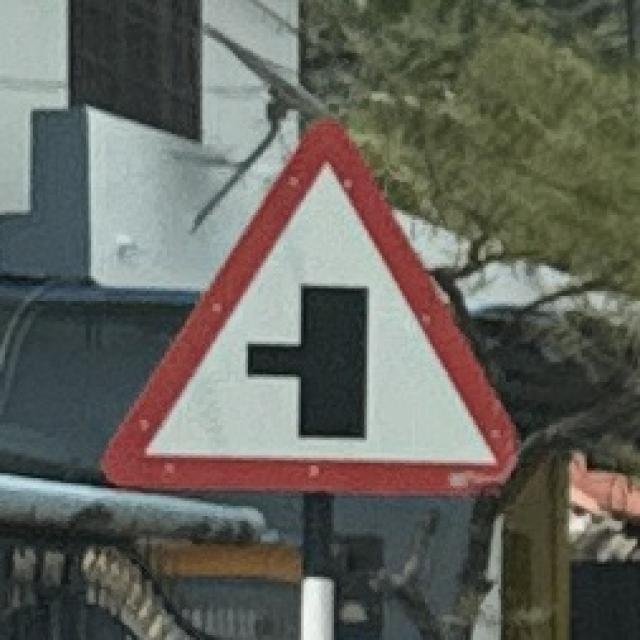SIDE_ROAD_LEFT: (92, 109, 526, 498)
